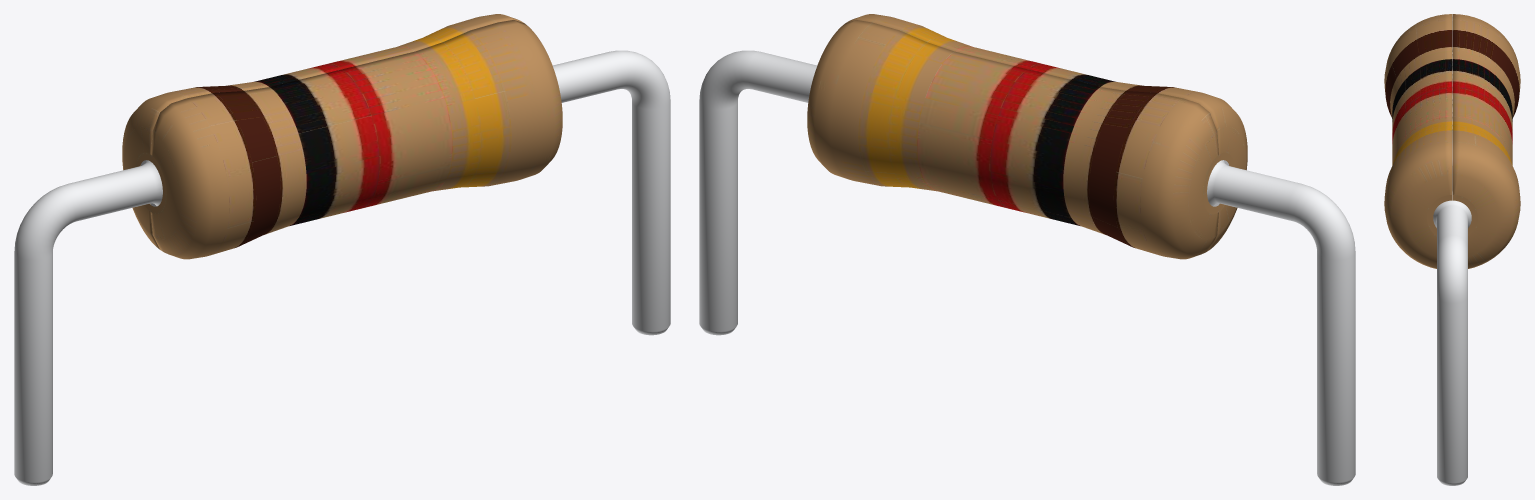
Rendered from 01_Resistencia_Quemandose_Humo_Corte.glb.
The picture shows the model from 3 angles, left to right: view 1: azimuth 30°, elevation 25°; view 2: azimuth 150°, elevation 25°; view 3: azimuth 270°, elevation 25°; orthographic projection. The views are drawn at different scales.
Visible parts, largest first — view 1: 06_Laca_Epoxi_Frontal_Bandas, 04A_Terminal_Izq_Cobre_Estanado, 04B_Terminal_Der_Cobre_Estanado, 05_Laca_Epoxi_Posterior; view 2: 05_Laca_Epoxi_Posterior, 04A_Terminal_Izq_Cobre_Estanado, 04B_Terminal_Der_Cobre_Estanado, 06_Laca_Epoxi_Frontal_Bandas; view 3: 05_Laca_Epoxi_Posterior, 06_Laca_Epoxi_Frontal_Bandas, 04B_Terminal_Der_Cobre_Estanado.
Part boxes in pixels (x1=…): 06_Laca_Epoxi_Frontal_Bandas: x1=151, y1=20, x2=562, y2=259; 04A_Terminal_Izq_Cobre_Estanado: x1=14, y1=160, x2=162, y2=485; 04B_Terminal_Der_Cobre_Estanado: x1=553, y1=50, x2=670, y2=335; 05_Laca_Epoxi_Posterior: x1=122, y1=14, x2=523, y2=249; 05_Laca_Epoxi_Posterior: x1=807, y1=20, x2=1218, y2=259; 04A_Terminal_Izq_Cobre_Estanado: x1=1207, y1=160, x2=1355, y2=485; 04B_Terminal_Der_Cobre_Estanado: x1=699, y1=50, x2=816, y2=335; 06_Laca_Epoxi_Frontal_Bandas: x1=846, y1=14, x2=1247, y2=249; 05_Laca_Epoxi_Posterior: x1=1452, y1=14, x2=1520, y2=268; 06_Laca_Epoxi_Frontal_Bandas: x1=1384, y1=14, x2=1452, y2=268; 04B_Terminal_Der_Cobre_Estanado: x1=1433, y1=190, x2=1471, y2=485.
Size of what is drawn, in the model's own units: 10.71 by 5.4 by 2.4.
10 materials, 7 textured.
